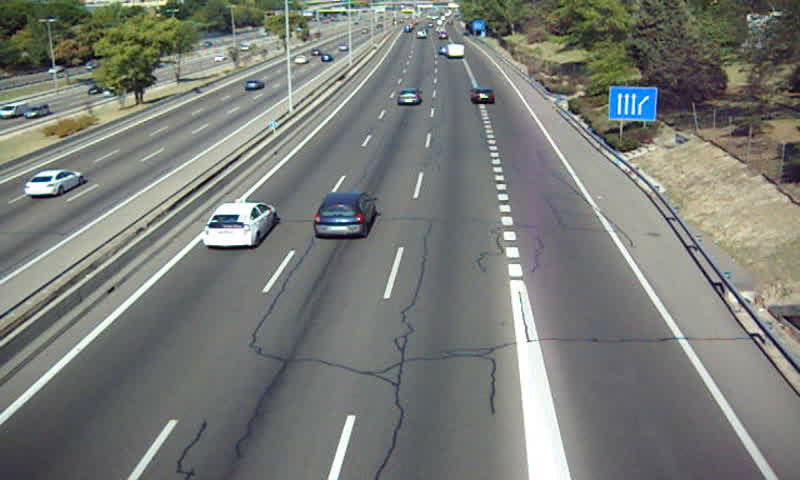car: (202, 202, 276, 247), (315, 193, 376, 238), (397, 88, 422, 106), (469, 87, 495, 103)
van: (448, 45, 464, 59)
